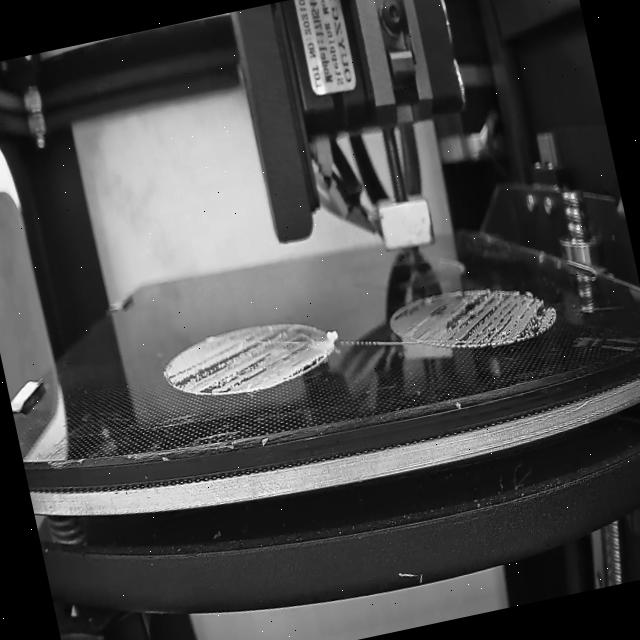under_extrusion: (158, 320, 327, 406), (426, 274, 562, 357), (390, 297, 429, 328)
